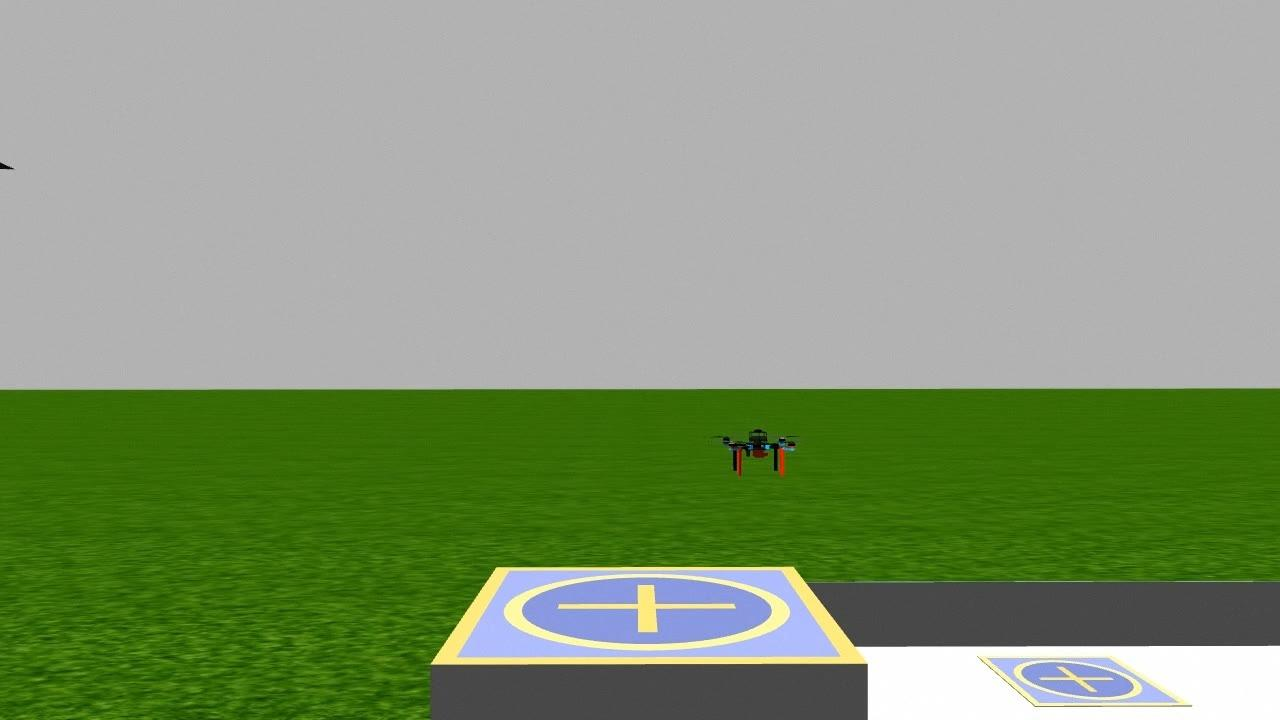UAV: (708, 406, 803, 487)
